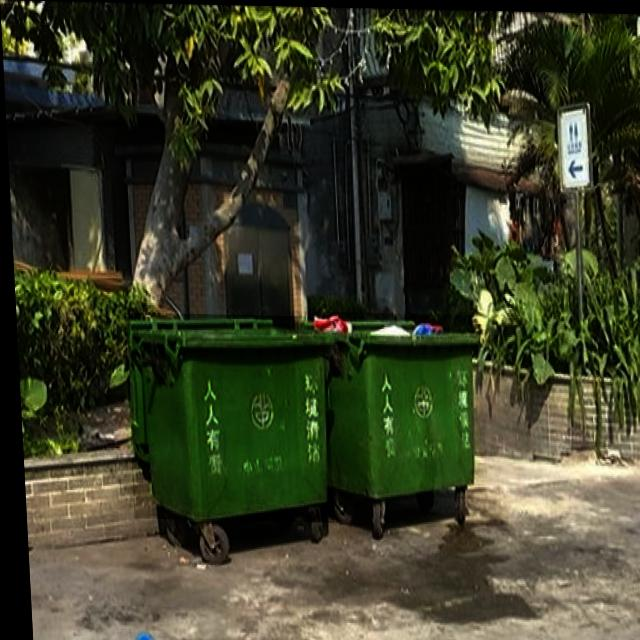garbage_bin: (121, 312, 329, 522)
overflow: (293, 310, 483, 497)
